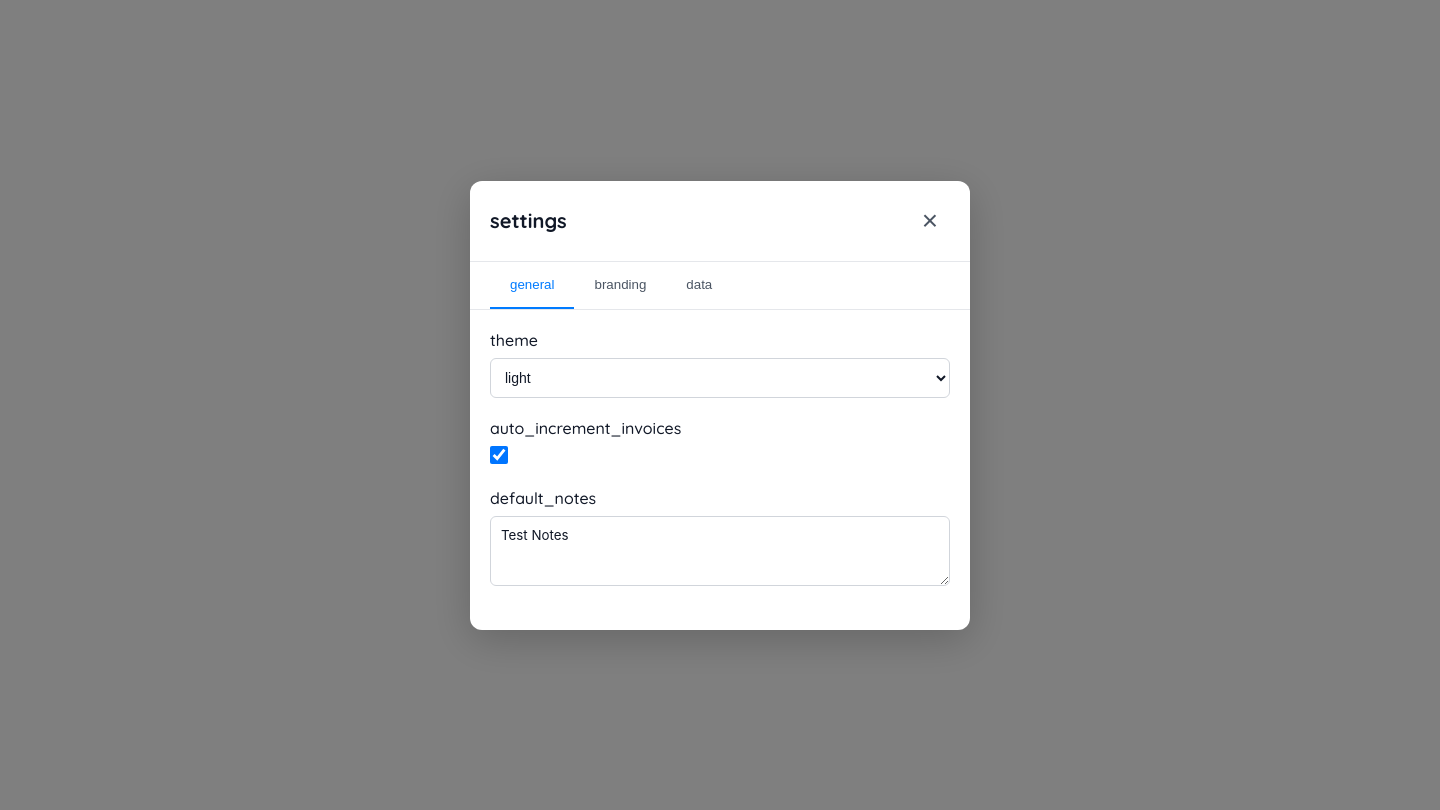
Test case: Settings Component › switches tabs correctly
Click the button "data" at (699, 285), box x1=666 y1=262 x2=732 y2=308
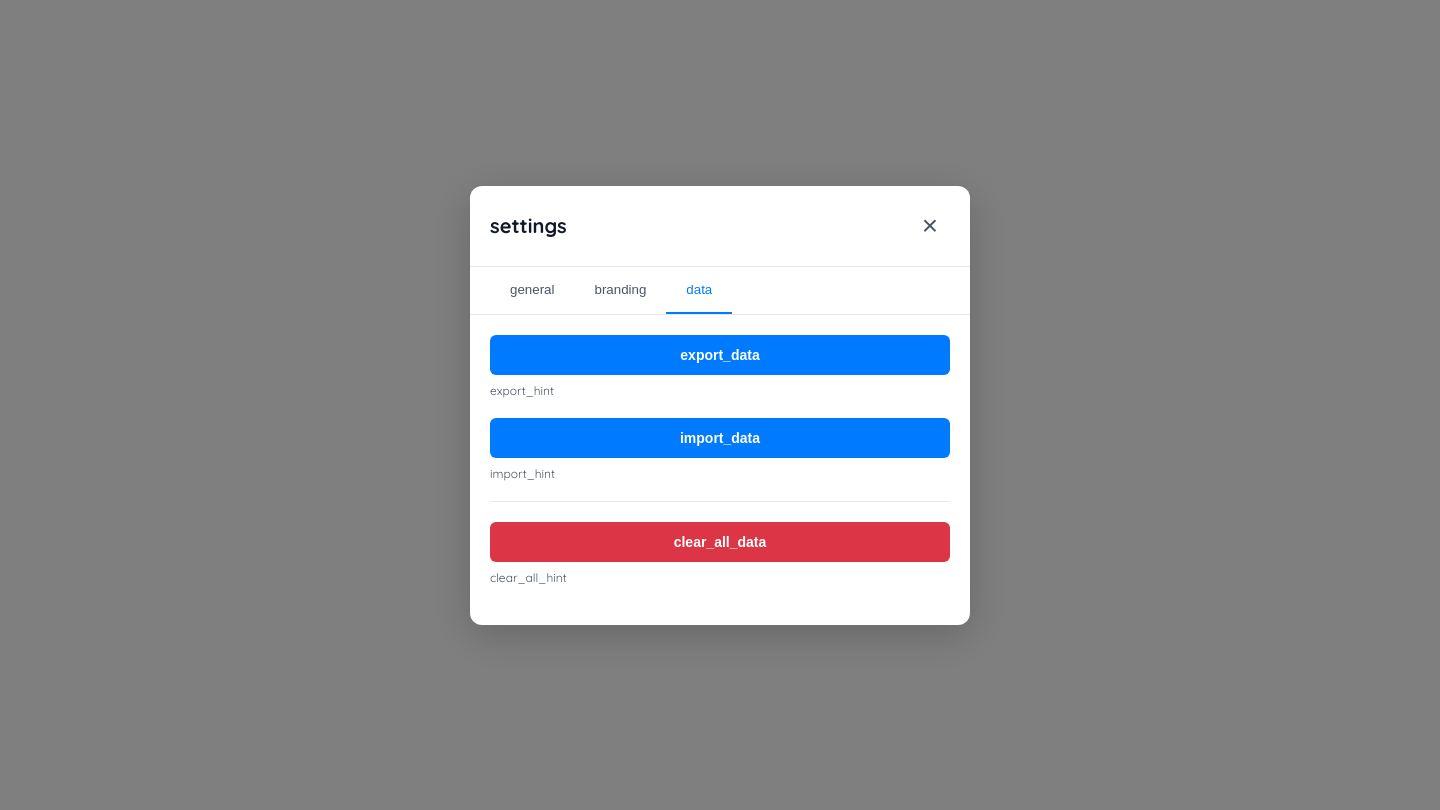
Expected: the button "export_data" is shown, x1=490 y1=334 x2=950 y2=374
Click the button "general" at (532, 290), box x1=490 y1=266 x2=574 y2=314
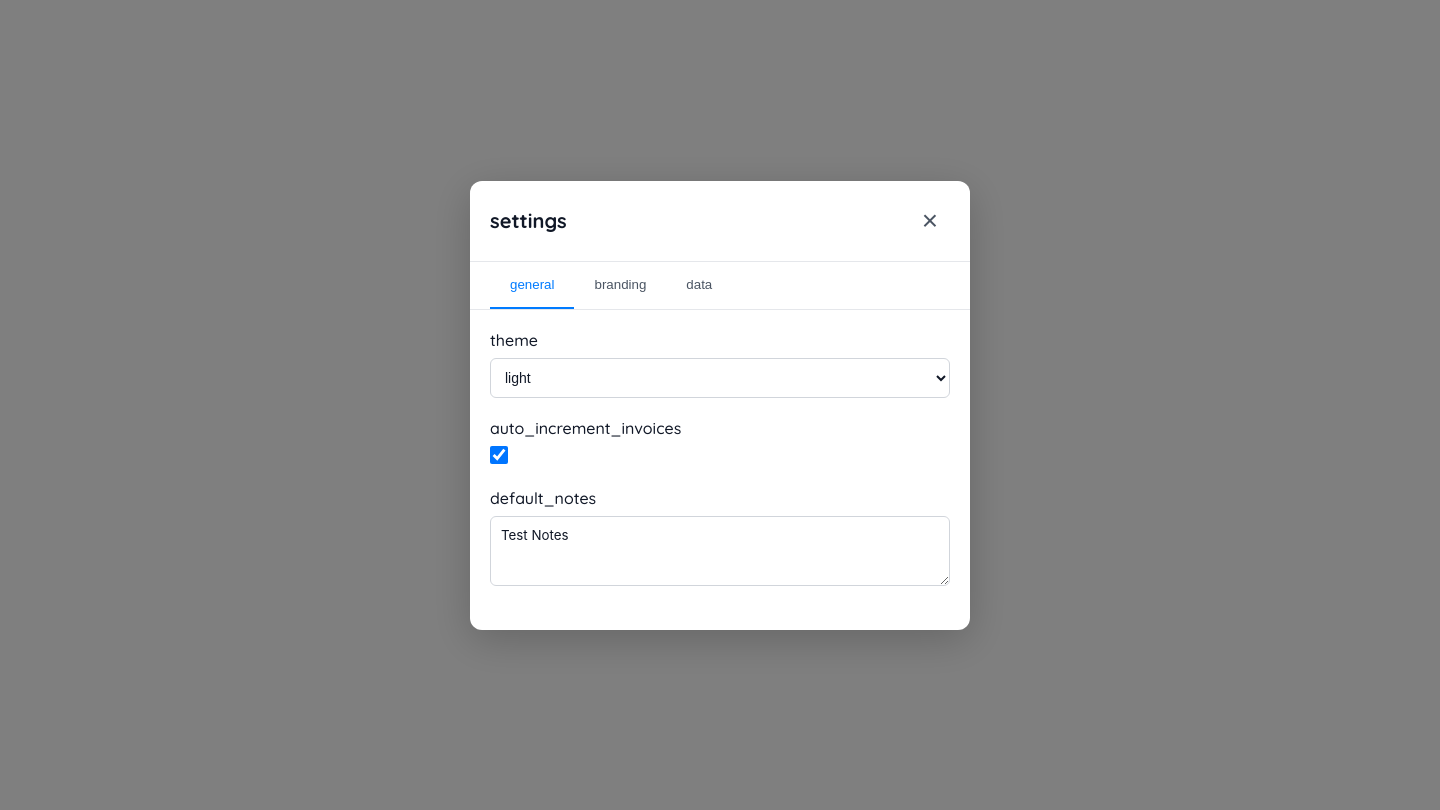
Expected: the text "theme" is shown, x1=490 y1=330 x2=538 y2=350
